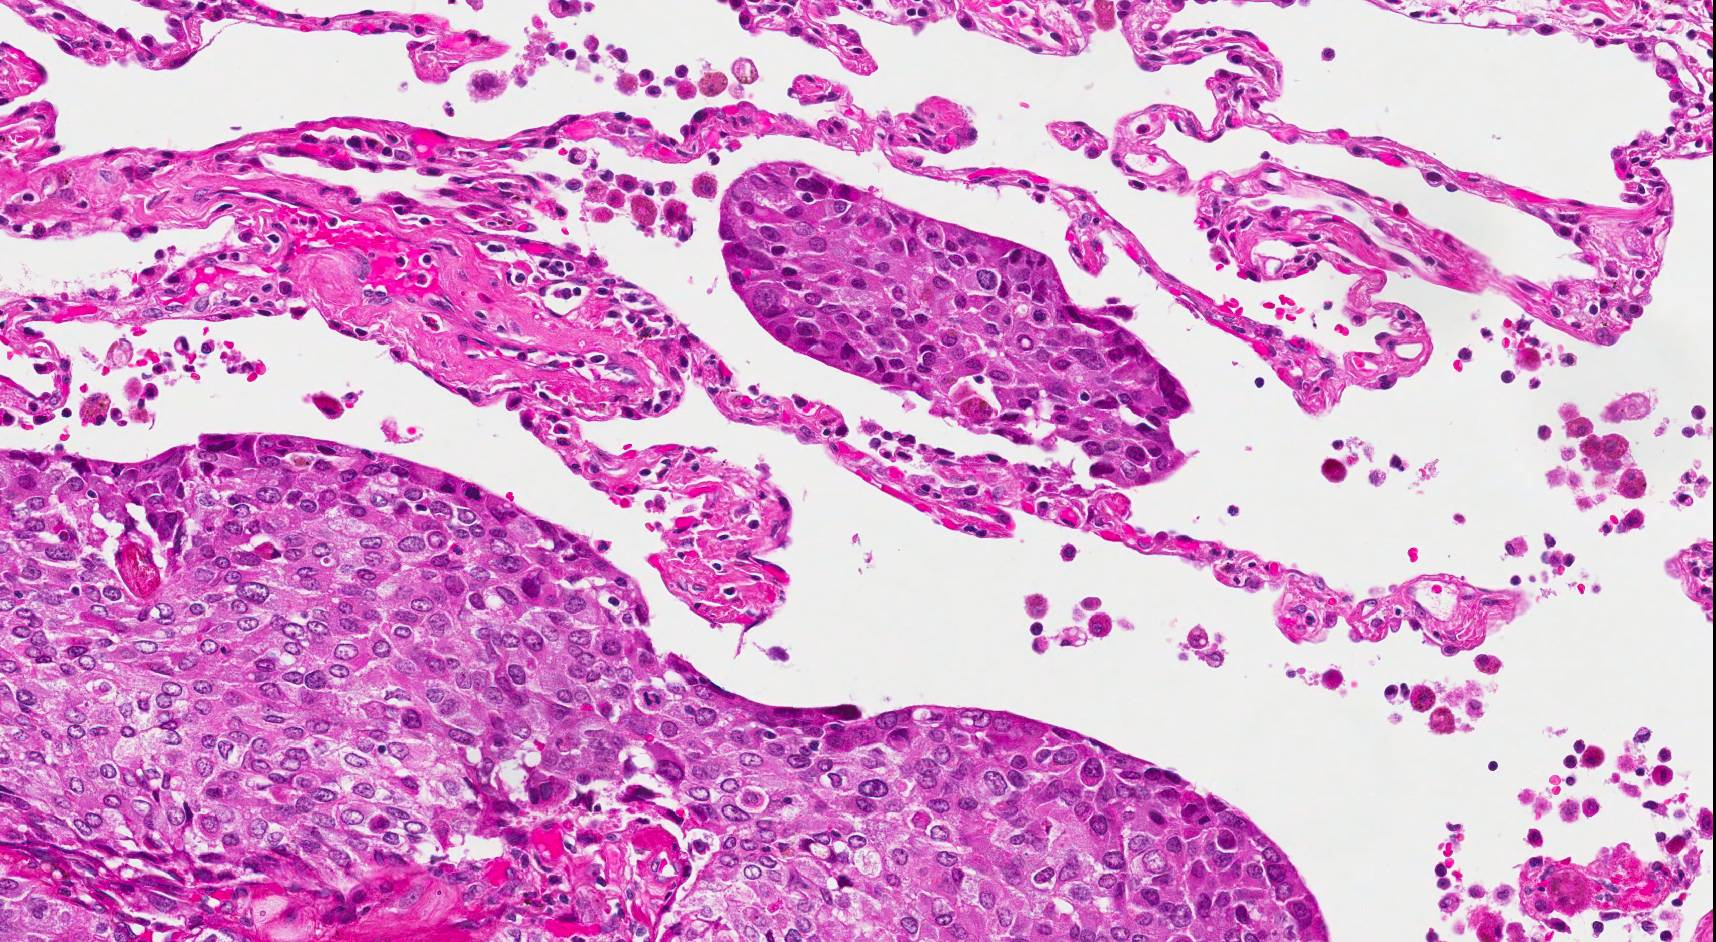stas: (719, 156, 1196, 490)
